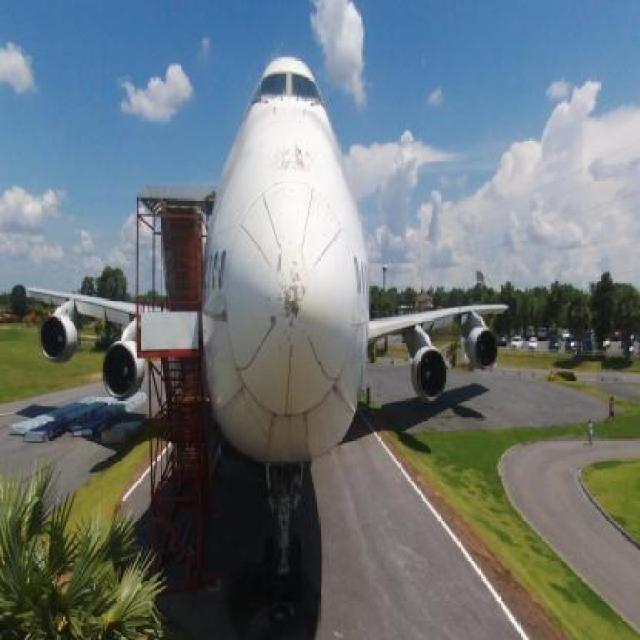Rust: (284, 285, 307, 330)
Scartch: (262, 242, 327, 363), (266, 132, 326, 193), (214, 292, 240, 345)
